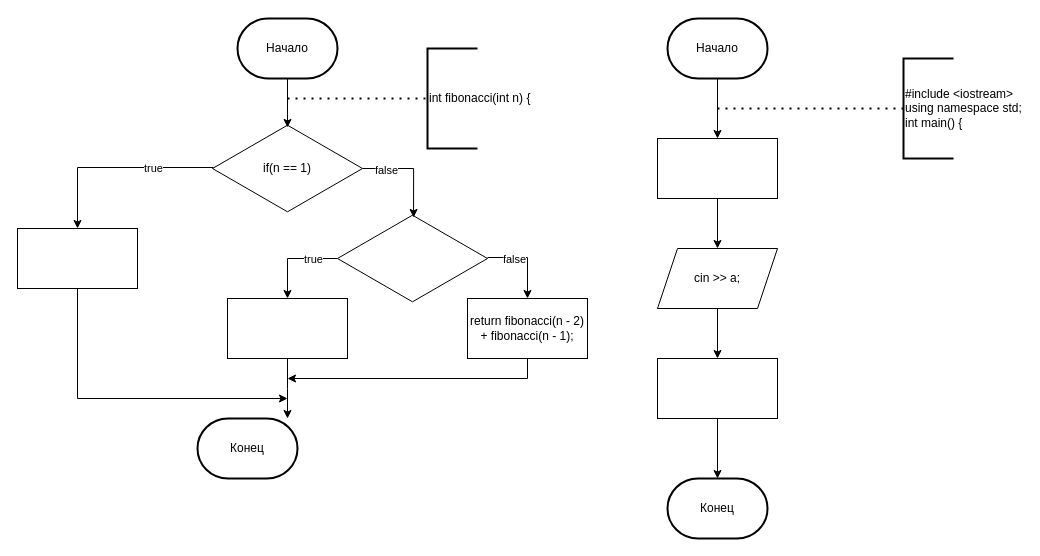
This 1040x556 diagram has some shape labels left out. Each missing label, with the centre of its shape:
"cout << fibonacci(a) << endl; }" goes at point (717, 388).
"else if (n == 0)" goes at point (412, 258).
"int a;" goes at point (717, 168).
"retrurn 1;" goes at point (77, 258).
"return 0;" goes at point (287, 328).
